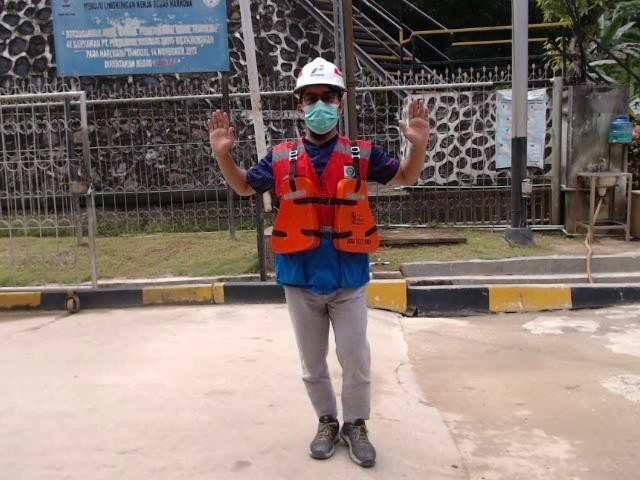vest: (269, 174, 382, 257)
